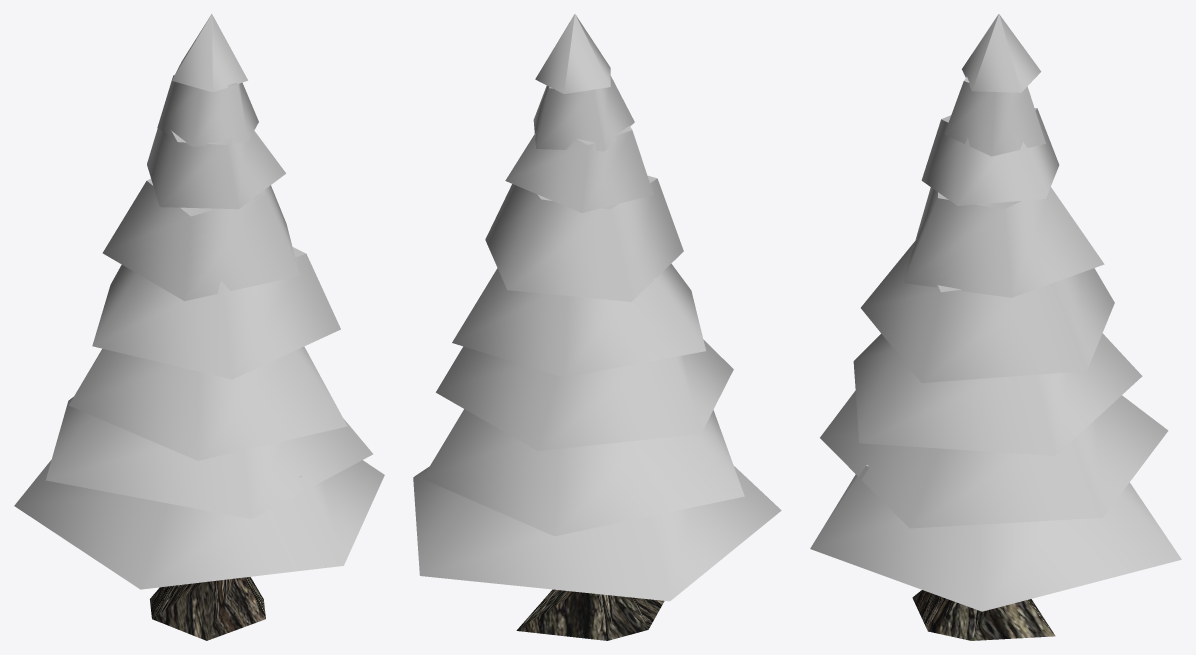
File: Tree1 (Frustum).FBX
3 renders of one model, left to right at view 1: azimuth 30°, elevation 25°; view 2: azimuth 150°, elevation 25°; view 3: azimuth 270°, elevation 25°, orthographic. The views are drawn at different scales.
Parts seen in each view (by area): view 1: Cone002, Cone004, Cone003, Cone005, Cone006, Cone007, Cone001, Cone009, Cone008; view 2: Cone002, Cone003, Cone004, Cone005, Cone006, Cone007, Cone001, Cone009, Cone008; view 3: Cone002, Cone003, Cone004, Cone005, Cone006, Cone007, Cone009, Cone001, Cone008.
Part boxes in pixels (left/top/right/bottom): Cone002: left=14, top=460, right=384, bottom=589; Cone004: left=69, top=346, right=347, bottom=460; Cone003: left=45, top=397, right=372, bottom=518; Cone005: left=92, top=247, right=340, bottom=379; Cone006: left=102, top=178, right=299, bottom=301; Cone007: left=147, top=126, right=285, bottom=209; Cone001: left=150, top=577, right=265, bottom=640; Cone009: left=157, top=75, right=258, bottom=146; Cone008: left=172, top=14, right=247, bottom=92; Cone002: left=413, top=466, right=781, bottom=601; Cone003: left=422, top=409, right=744, bottom=536; Cone004: left=436, top=339, right=733, bottom=450; Cone005: left=452, top=263, right=705, bottom=377; Cone006: left=485, top=175, right=683, bottom=301; Cone007: left=505, top=126, right=653, bottom=212; Cone001: left=516, top=589, right=664, bottom=640; Cone009: left=533, top=76, right=634, bottom=151; Cone008: left=535, top=14, right=610, bottom=93; Cone002: left=810, top=465, right=1181, bottom=611; Cone003: left=820, top=390, right=1168, bottom=528; Cone004: left=853, top=333, right=1142, bottom=455; Cone005: left=861, top=239, right=1114, bottom=382; Cone006: left=903, top=187, right=1104, bottom=297; Cone007: left=921, top=108, right=1059, bottom=205; Cone009: left=944, top=77, right=1045, bottom=156; Cone001: left=912, top=590, right=1055, bottom=640; Cone008: left=962, top=14, right=1041, bottom=92.
Bounding box in the file's own units: 51.98 × 87.94 × 48.83.
